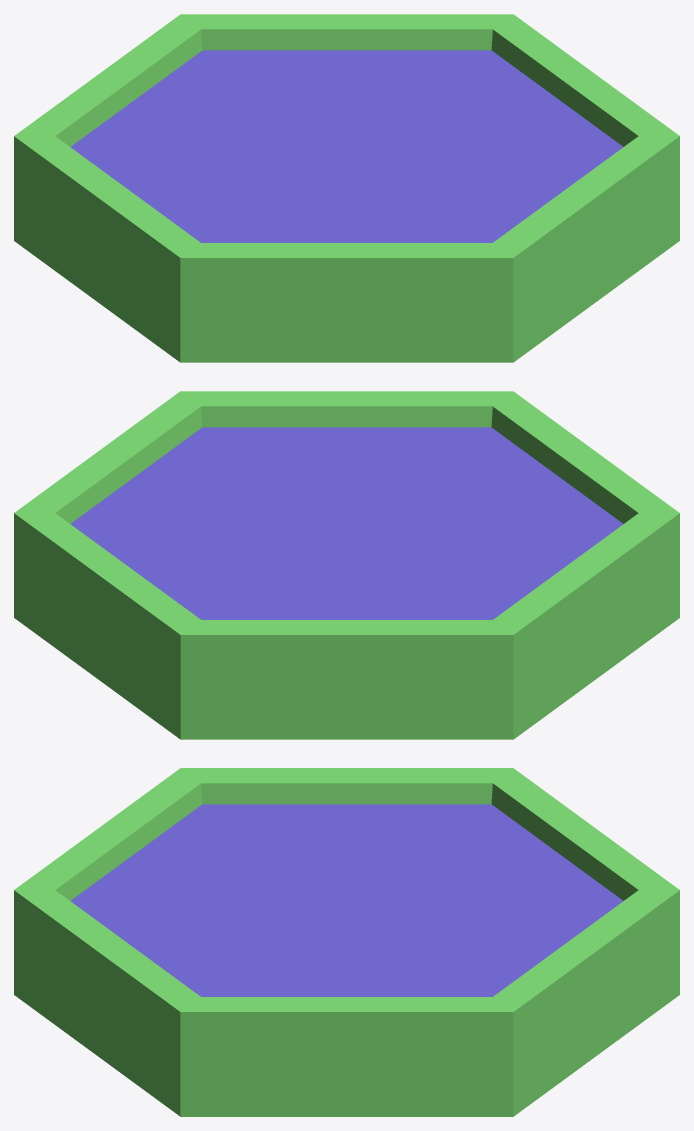
File: Lake_2.fbx
3 renders of one model, top to bottom at view 1: azimuth 30°, elevation 25°; view 2: azimuth 150°, elevation 25°; view 3: azimuth 270°, elevation 25°, orthographic.
Parts seen in each view (by area): view 1: Lake; view 2: Lake; view 3: Lake.
Part boxes in pixels (x1,y1,x2,y2): Lake: (14, 14, 679, 362); Lake: (14, 391, 679, 739); Lake: (14, 768, 679, 1116).
Bounding box in the file's own units: 1 × 0.2003 × 1.15.
